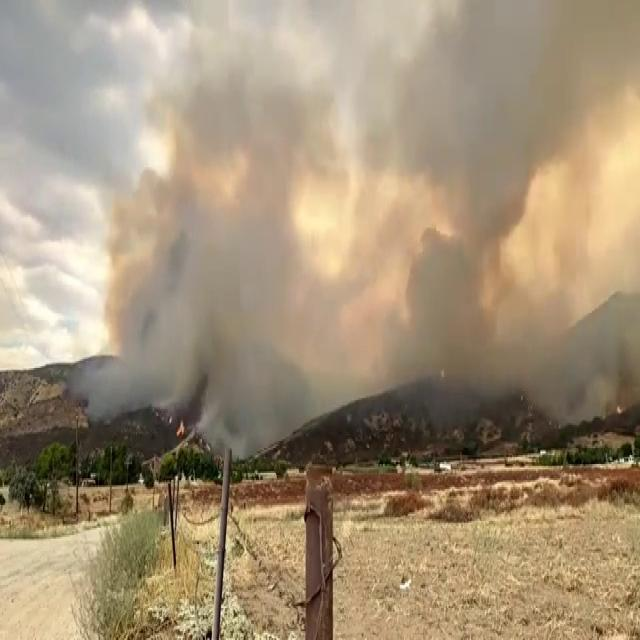Fire: (174, 420, 185, 440)
Smoke: (348, 2, 519, 400), (200, 1, 346, 455), (68, 0, 198, 426), (522, 0, 640, 416)
